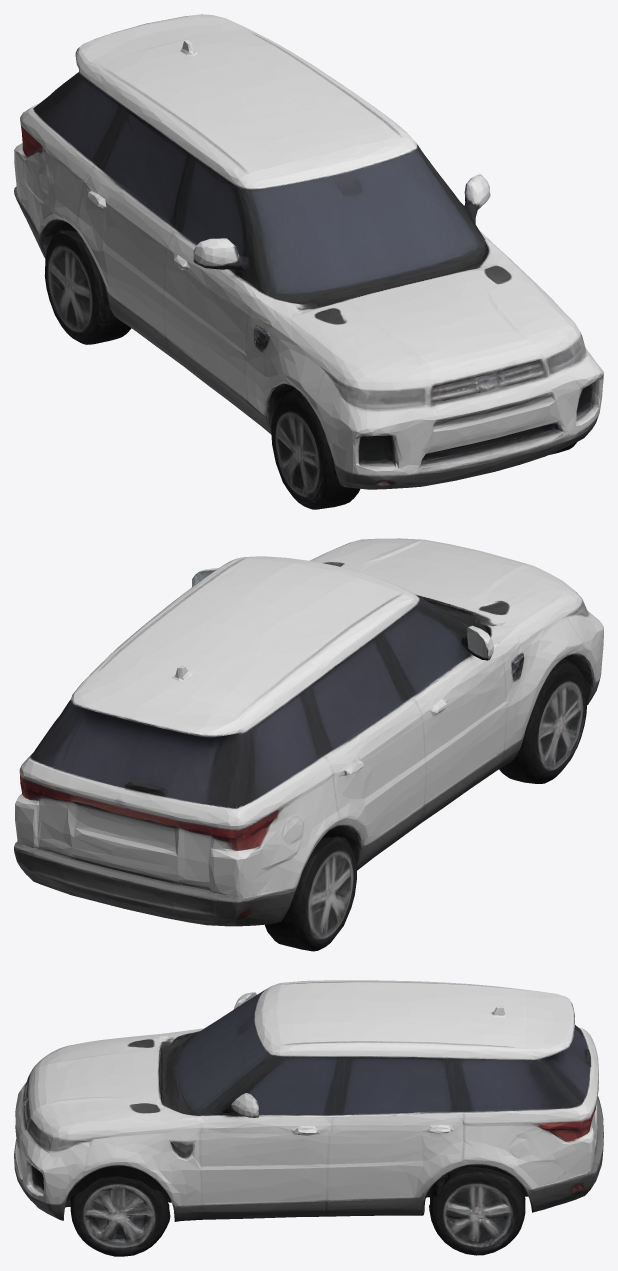
Rendered from car.glb.
3 renders of one model, top to bottom at view 1: azimuth 30°, elevation 25°; view 2: azimuth 150°, elevation 25°; view 3: azimuth 270°, elevation 25°, orthographic. The views are drawn at different scales.
Parts seen in each view (by area): view 1: world; view 2: world; view 3: world.
Boxes of the visible parts, x1,y1,x2,y2 form: world: (14,14,603,509); world: (14,538,603,951); world: (14,980,603,1256).
Bounding box in the file's own units: 0.4516 × 0.3805 × 0.9996.
1 material, 1 textured.
